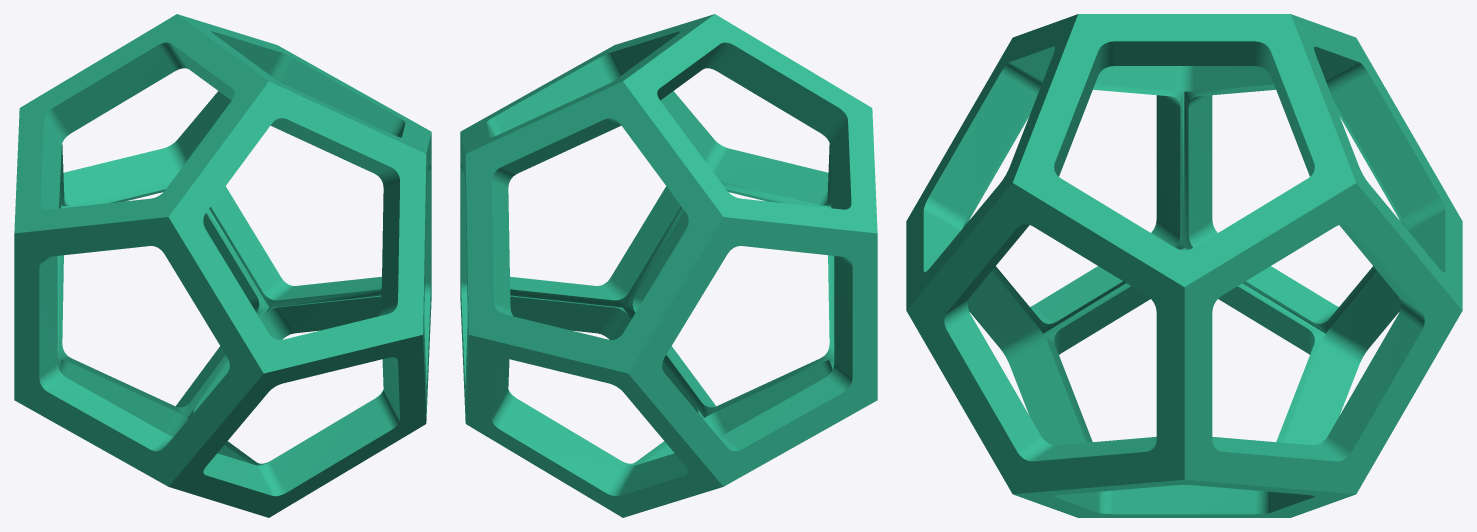
File: dodecaedro.glb
3 views of the same model, side by side, from view 1: azimuth 30°, elevation 25°; view 2: azimuth 150°, elevation 25°; view 3: azimuth 270°, elevation 25° (orthographic). The views are drawn at different scales.
Visible parts, largest first — view 1: Mesh_0; view 2: Mesh_0; view 3: Mesh_0.
Boxes of the visible parts, box(x1,y1,x2,y2) form: Mesh_0: box(14, 14, 431, 517); Mesh_0: box(460, 14, 877, 517); Mesh_0: box(906, 14, 1462, 517).
Bounding box in the file's own units: 2.67 × 2.67 × 2.67.
